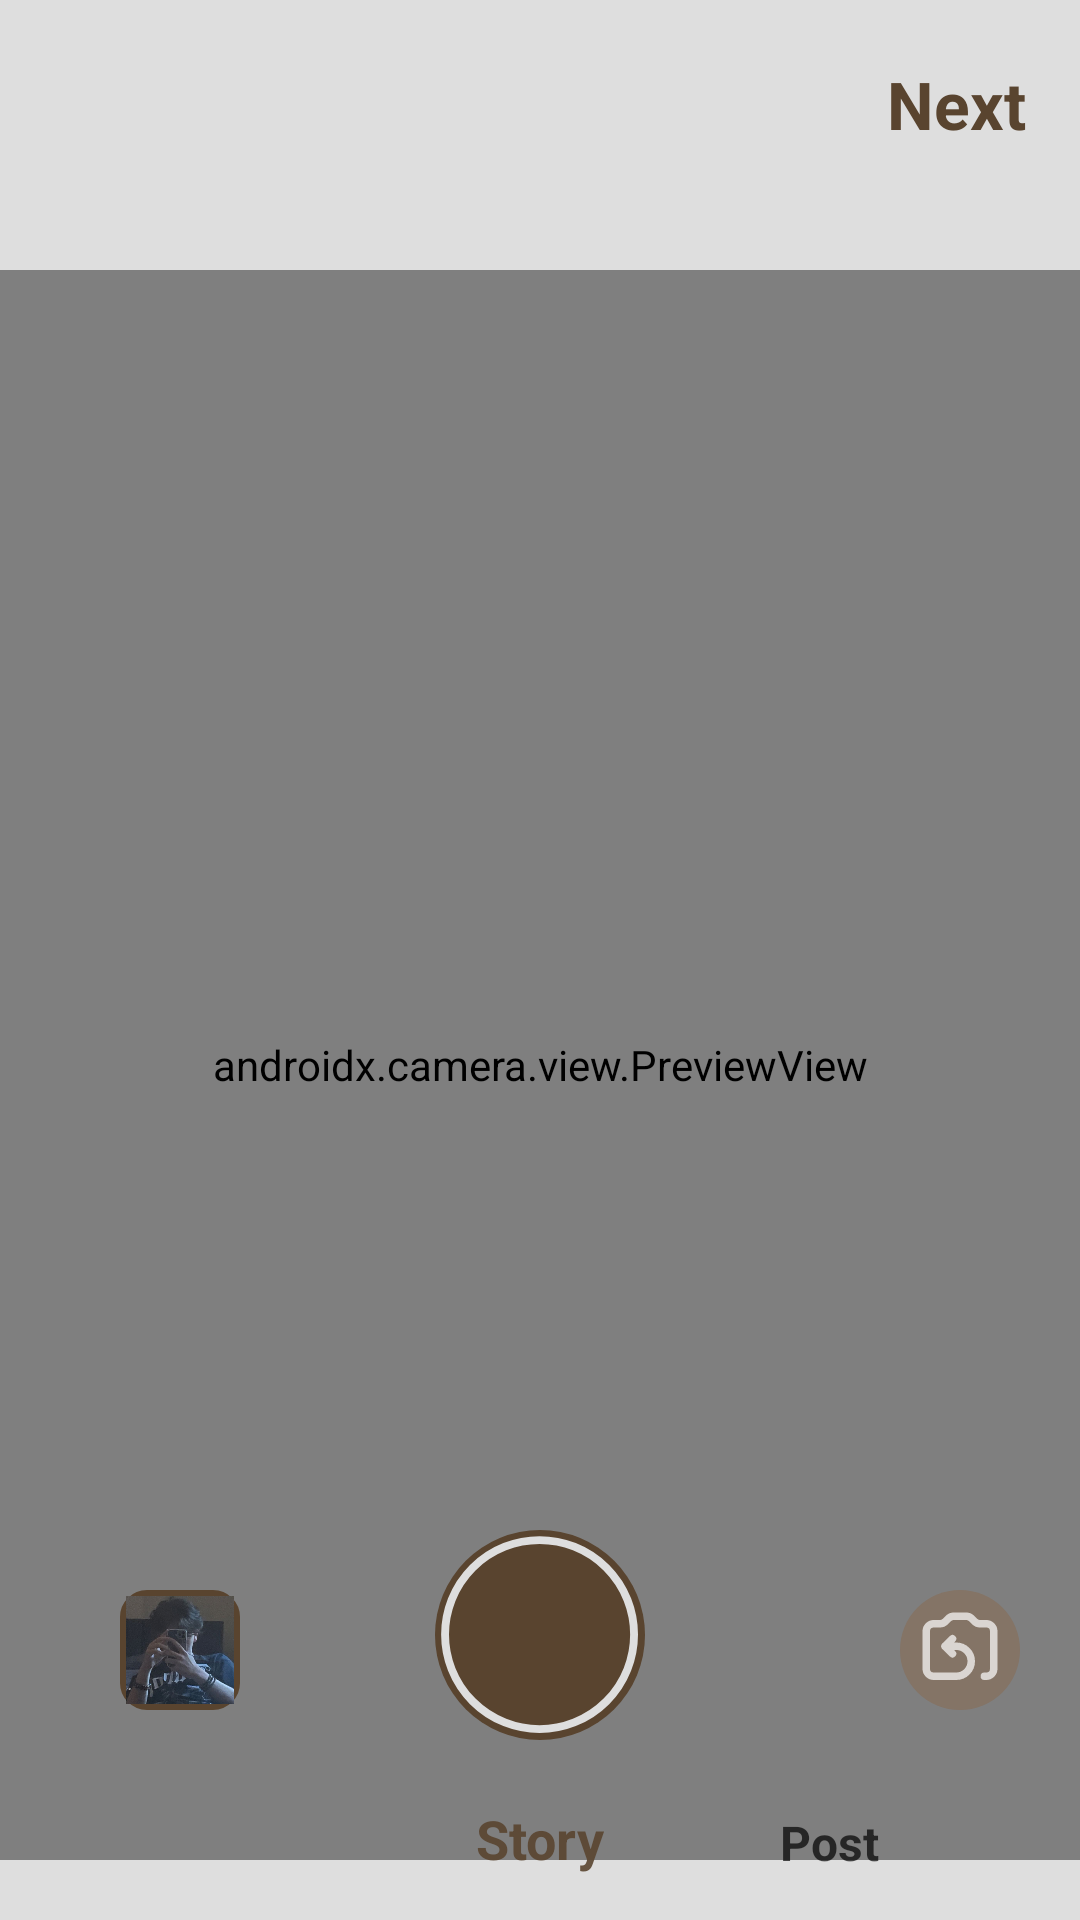

Locate icon controls on the screen. Image size 1080 x 1920, boxes as (x1,y1,x2,y2).
cam flip: (900,1590,1020,1710)
camera sutter: (435,1530,645,1740)
